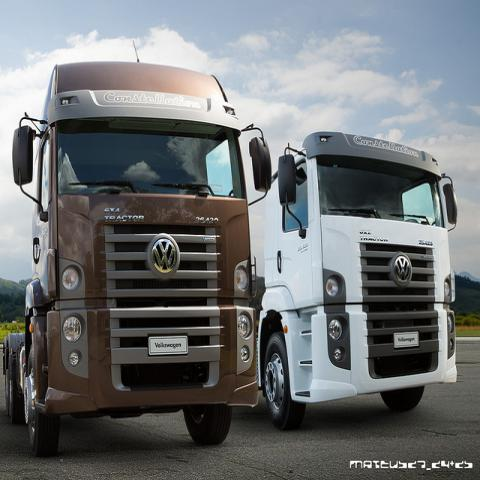truck: (1, 40, 274, 456), (255, 132, 459, 429)
